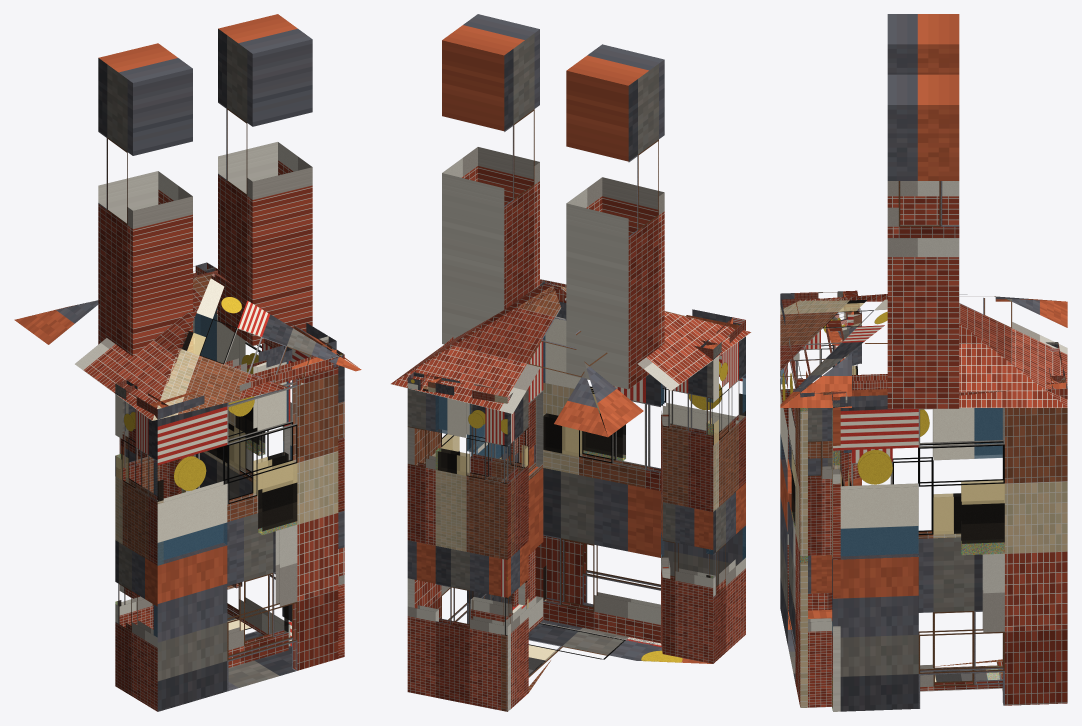
3 views of the same model, side by side, from view 1: azimuth 30°, elevation 25°; view 2: azimuth 150°, elevation 25°; view 3: azimuth 270°, elevation 25° (orthographic). The views are drawn at different scales.
Parts seen in each view (by area): view 1: 341674980__wall_7_xb, 341674980__chimney_1_xb, 341674980__chimney_0_xb, 341674980__wall_6_xb, 341674980__wall_3_xb, 341674980_roof_front_xb, 341674980_roof_left_xb, 341674980__wall_2_xb, 341674980__wall_7_xf, 341674980__wall_5_xb, 341674980__cornice_7, 341674980__base (+7 smaller); view 2: 341674980__chimney_0_xb, 341674980__chimney_1_xb, 341674980__wall_3_xb, 341674980__wall_12_xb, 341674980__wall_5_xb, 341674980_roof_back_xb, 341674980__wall_7_xb, 341674980__wall_6_xb, 341674980__wall_11_xb, 341674980__wall_0_xb, 341674980_roof_left_xb, 341674980__base (+10 smaller); view 3: 341674980__wall_10_xb, 341674980__chimney_1_xb, 341674980__wall_2_xb, 341674980__wall_7_xb, 341674980__chimney_0_xb, 341674980__wall_8_xb, 341674980_roof_right_xb, 341674980__wall_10_xf, 341674980_roof_back_xb, 341674980_roof_front_xb, 341674980__wall_2_xf, 341674980__wall_9_xb (+8 smaller).
Boxes of the visible parts, left/top/right/bottom form: 341674980__wall_7_xb: left=153, top=366, right=344, bottom=711; 341674980__chimney_1_xb: left=218, top=14, right=312, bottom=345; 341674980__chimney_0_xb: left=98, top=43, right=192, bottom=356; 341674980__wall_6_xb: left=115, top=394, right=163, bottom=711; 341674980__wall_3_xb: left=181, top=361, right=288, bottom=667; 341674980_roof_front_xb: left=152, top=278, right=361, bottom=420; 341674980_roof_left_xb: left=14, top=273, right=212, bottom=420; 341674980__wall_2_xb: left=194, top=309, right=290, bottom=646; 341674980__wall_7_xf: left=154, top=459, right=296, bottom=636; 341674980__wall_5_xb: left=115, top=399, right=159, bottom=629; 341674980__cornice_7: left=150, top=349, right=344, bottom=419; 341674980__base: left=227, top=584, right=295, bottom=690; 341674980__chimney_0_xb: left=566, top=44, right=664, bottom=389; 341674980__chimney_1_xb: left=442, top=14, right=539, bottom=344; 341674980__wall_3_xb: left=543, top=318, right=664, bottom=642; 341674980__wall_12_xb: left=435, top=395, right=510, bottom=711; 341674980__wall_5_xb: left=662, top=360, right=715, bottom=663; 341674980_roof_back_xb: left=390, top=285, right=607, bottom=437; 341674980__wall_7_xb: left=535, top=300, right=745, bottom=604; 341674980__wall_6_xb: left=706, top=336, right=745, bottom=663; 341674980__wall_11_xb: left=407, top=388, right=438, bottom=697; 341674980__wall_0_xb: left=501, top=390, right=528, bottom=711; 341674980_roof_left_xb: left=561, top=287, right=751, bottom=436; 341674980__base: left=512, top=596, right=711, bottom=692; 341674980__wall_10_xb: left=832, top=406, right=1067, bottom=711; 341674980__chimney_1_xb: left=887, top=74, right=959, bottom=408; 341674980__wall_2_xb: left=851, top=408, right=1002, bottom=690; 341674980__wall_7_xb: left=780, top=360, right=807, bottom=707; 341674980__chimney_0_xb: left=887, top=14, right=959, bottom=225; 341674980__wall_8_xb: left=799, top=408, right=831, bottom=707; 341674980_roof_right_xb: left=780, top=323, right=1067, bottom=407; 341674980__wall_10_xf: left=832, top=449, right=1004, bottom=634; 341674980_roof_back_xb: left=959, top=298, right=1067, bottom=407; 341674980_roof_front_xb: left=780, top=297, right=887, bottom=407; 341674980__wall_2_xf: left=933, top=408, right=1002, bottom=534; 341674980__wall_9_xb: left=832, top=408, right=840, bottom=711.
Bounding box in the file's own units: 0.531 × 1.4 × 0.5998.
Materials: 1 (1 with a texture image).
